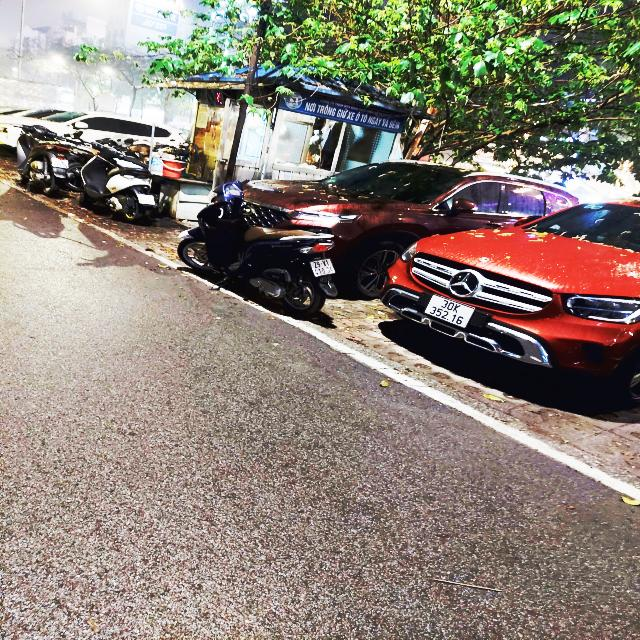license_plate: (420, 292, 479, 332), (309, 257, 339, 280)
